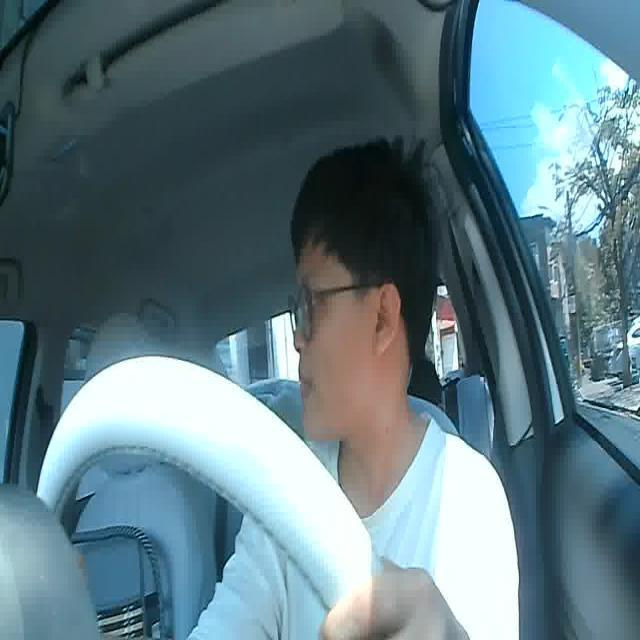Eye-Open: (300, 292, 321, 310)
Inattentive: (292, 140, 436, 443)
Normal: (298, 375, 312, 399)
